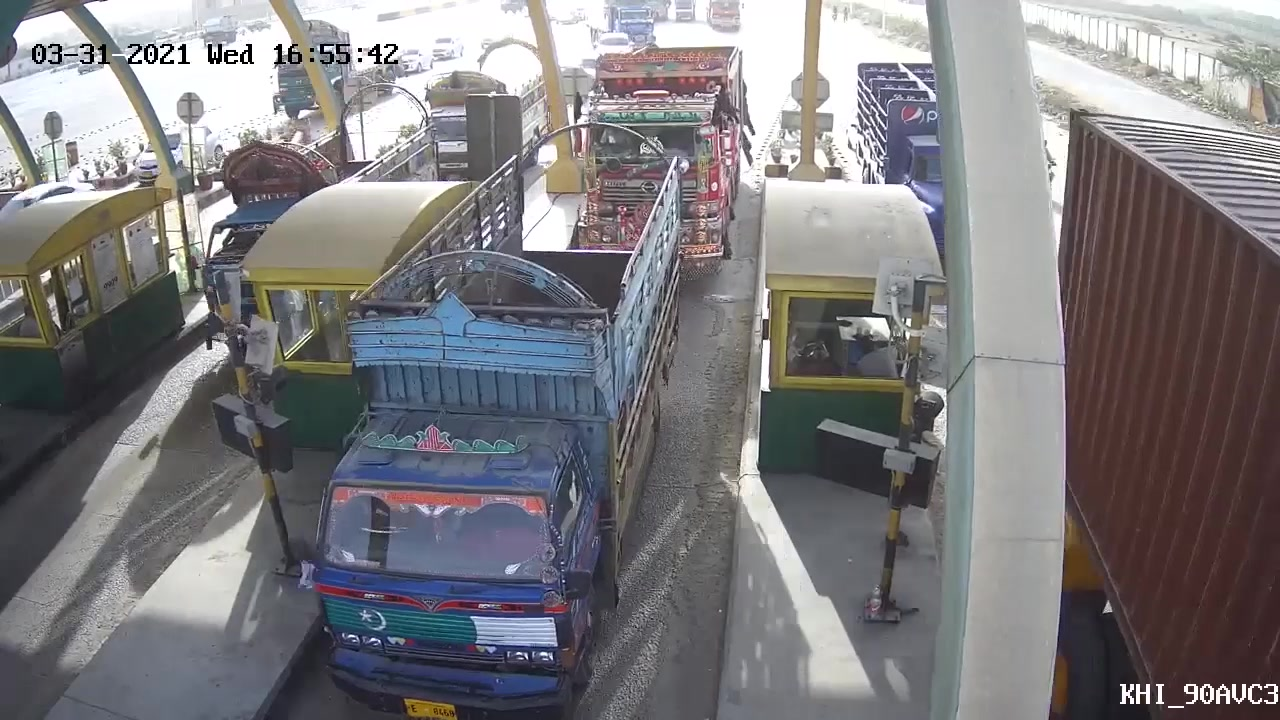F5: (318, 112, 685, 716)
